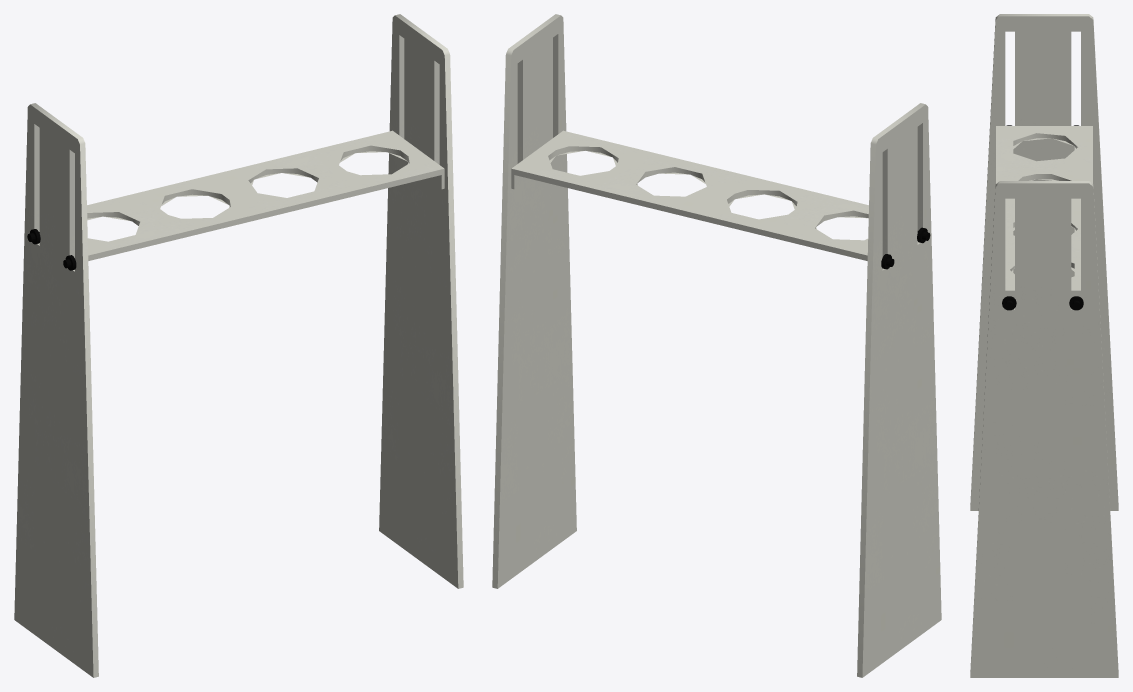
The model's file is SM_漏斗架.fbx.
3 renders of one model, left to right at view 1: azimuth 30°, elevation 25°; view 2: azimuth 150°, elevation 25°; view 3: azimuth 270°, elevation 25°, orthographic. The views are drawn at different scales.
Parts seen in each view (by area): view 1: SM_漏斗架; view 2: SM_漏斗架; view 3: SM_漏斗架.
Part boxes in pixels (x1=…): SM_漏斗架: x1=14, y1=14, x2=463, y2=677; SM_漏斗架: x1=492, y1=14, x2=941, y2=677; SM_漏斗架: x1=970, y1=14, x2=1118, y2=677.
Bounding box in the file's own units: 0.2142 × 0.2804 × 0.0764.
